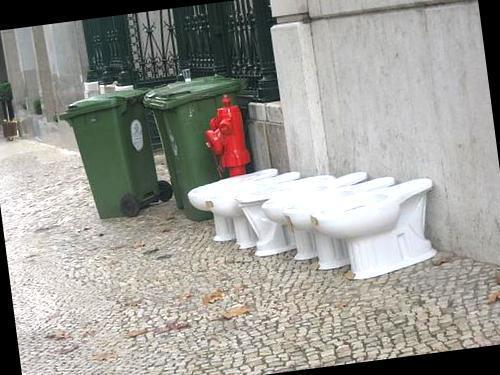Bote de Basura: (143, 68, 273, 226), (75, 75, 162, 219)
